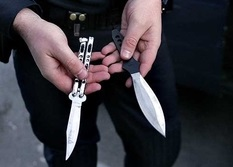knife: (110, 28, 168, 140), (59, 33, 95, 163)
